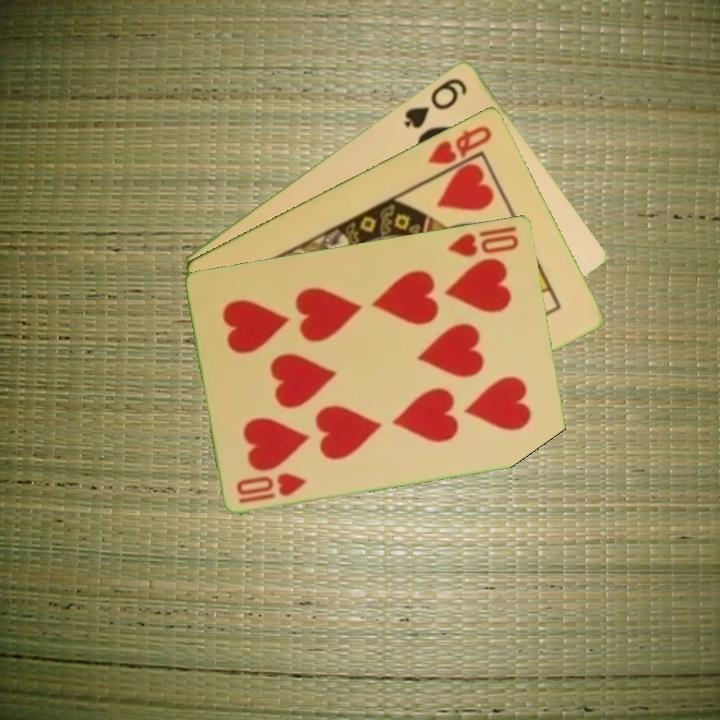10h: (445, 222, 522, 260), (233, 469, 310, 506)
6s: (400, 73, 471, 131)
Qh: (424, 122, 495, 167)
